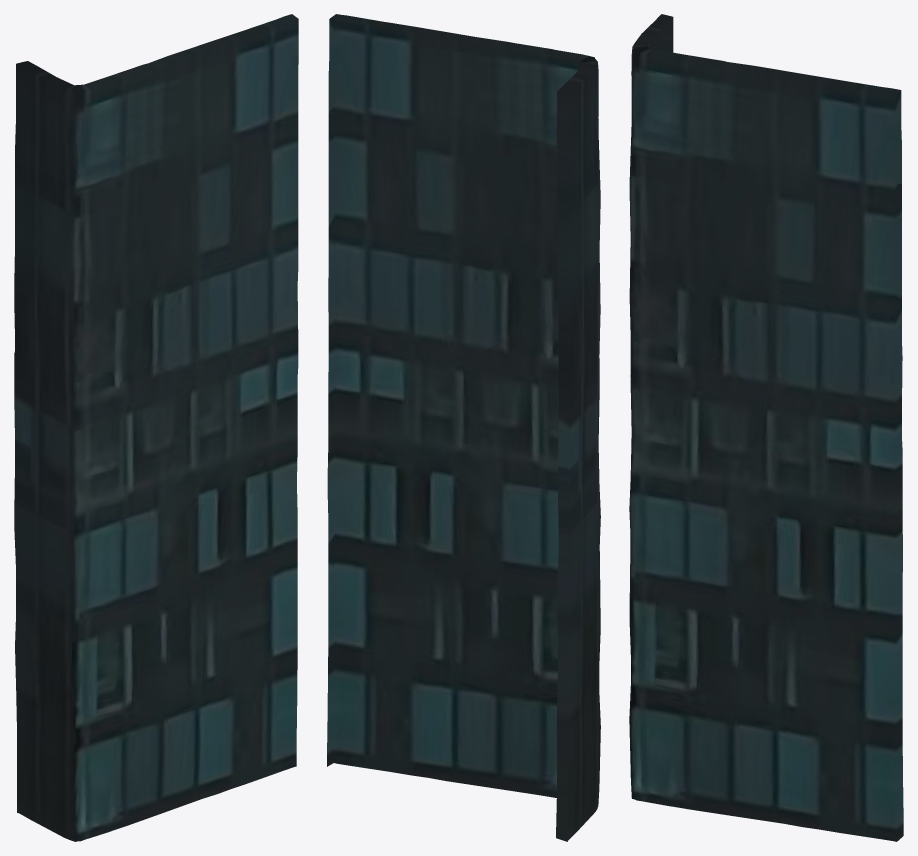
The model's file is z20-167773-405237-h1-yup-uvflip-v3-world.glb.
The picture shows the model from 3 angles, left to right: view 1: azimuth 30°, elevation 25°; view 2: azimuth 150°, elevation 25°; view 3: azimuth 330°, elevation 25°; orthographic projection.
Size of the model in its own units: 10.64 by 29.32 by 3.24.
1 material, 1 textured.
